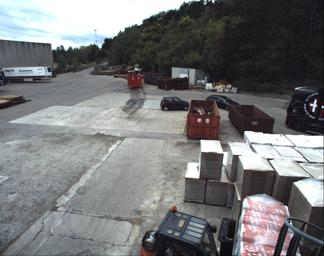rockwool_batts: (234, 199, 300, 255)
